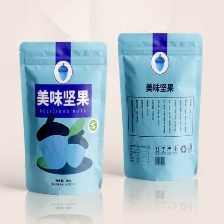snack: (12, 36, 112, 199), (113, 26, 208, 184)
